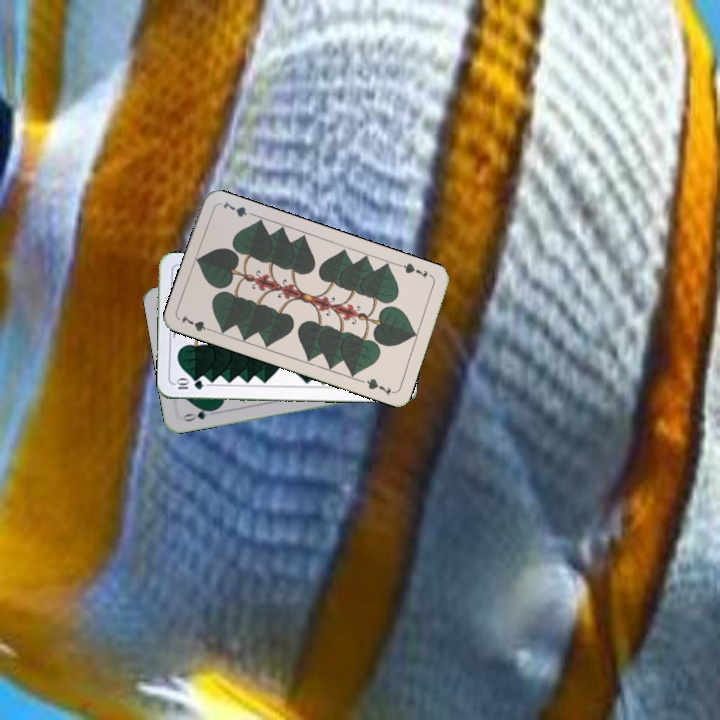G10: (172, 377, 206, 392)
G7: (178, 311, 217, 335), (395, 259, 435, 281)
GO: (178, 405, 218, 424)
